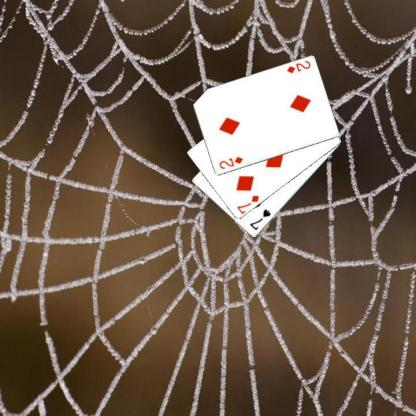2D: (284, 58, 312, 75), (216, 154, 244, 170)
7D: (234, 193, 261, 215)
7S: (247, 207, 272, 232)
